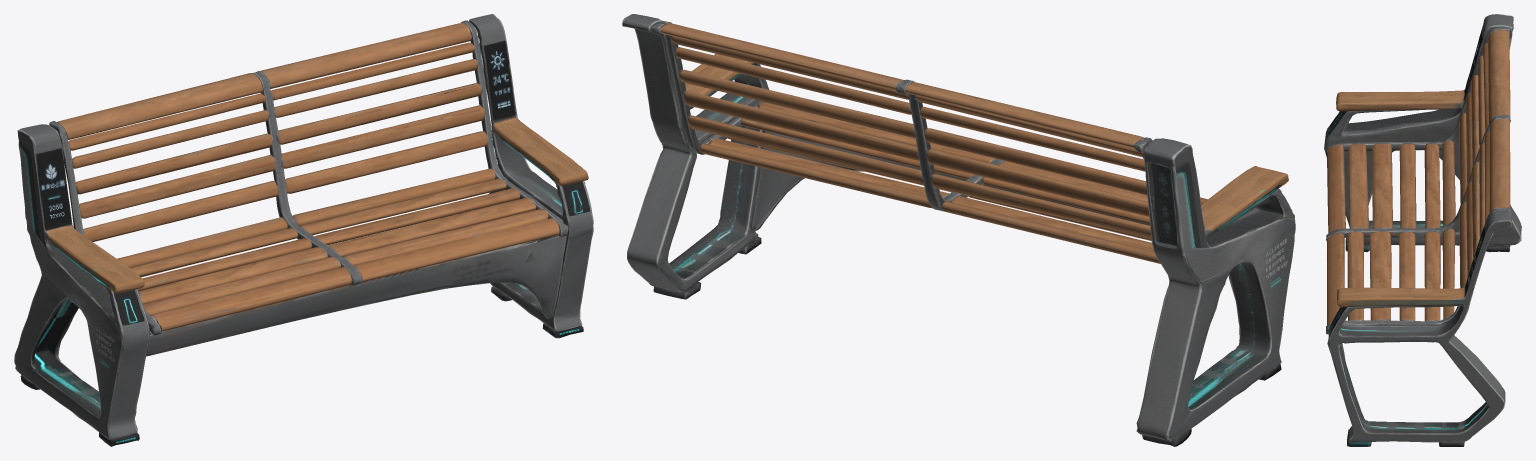
Rendered from futuristic_eco_bench.glb.
3 renders of one model, left to right at view 1: azimuth 30°, elevation 25°; view 2: azimuth 150°, elevation 25°; view 3: azimuth 270°, elevation 25°, orthographic. The views are drawn at different scales.
Size of the model in its own units: 1 by 0.5117 by 0.4043.
Materials: 1 (1 with a texture image).
